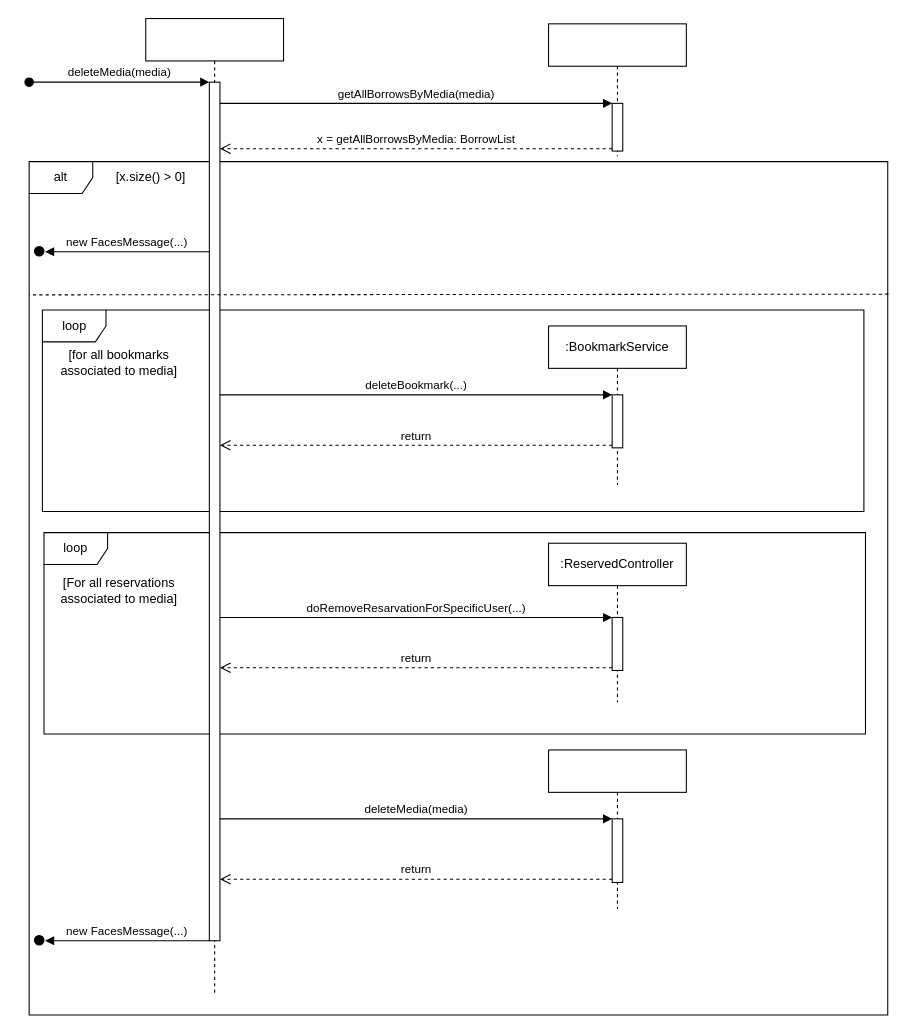
The diagram is 908 pixels wide and 1034 high, and some of its shapes have lost their labels. The box of each missing label's shape, as (x1, y1, x2, y2) in pixels:
:BorrowService: (547, 23, 686, 156)
:MediaDetailController: (145, 17, 284, 994)
:MediaService: (547, 749, 686, 909)
